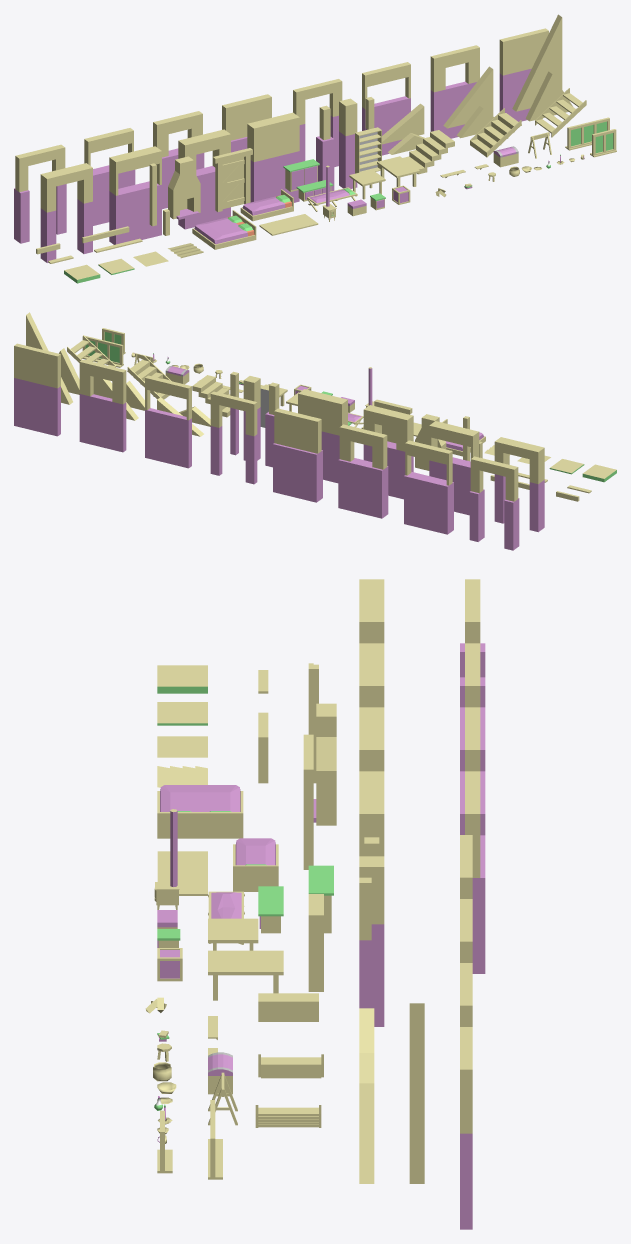
The model's file is fantasy_decorations.obj.
The picture shows the model from 3 angles, top to bottom: view 1: azimuth 30°, elevation 25°; view 2: azimuth 150°, elevation 25°; view 3: azimuth 270°, elevation 25°; orthographic projection. The views are drawn at different scales.
Visible parts, largest first — view 1: Wall_A_Window_Large, Wall_A_Plain, Wall_A_Door, Wall_C_Window_Small, Wall_C, Wall_B_Door, Wall_A_Window_Small, Wall_B_Window_Large, Wall_C_Window_Large, Wall_Roof_60, Wall_B_Window_Small, Wall_C_Door (+28 smaller); view 2: Wall_B, Wall_B_Window_Small, Wall_C, Wall_C_Window_Small, Wall_B_Window_Large, Wall_C_Window_Large, Wall_B_Door, Wall_A_Door, Wall_C_Door, Wall_A_Window_Small, Wall_A_Plain, Wall_A_Window_Large (+14 smaller); view 3: Bed_Double, Wall_B, Fireplace, Wall_C, Wall_Pillar_A, Wall_Roof_60, Bed_Single, Table_Large, Wall_A_Plain, Board, Stairs_Block, Wall_B_Door (+23 smaller).
Boxes of the visible parts, bbox=[...] form: Wall_A_Window_Large: bbox=[109, 146, 161, 244]; Wall_A_Plain: bbox=[247, 112, 299, 202]; Wall_A_Door: bbox=[40, 163, 92, 262]; Wall_C_Window_Small: bbox=[430, 45, 479, 138]; Wall_C: bbox=[499, 28, 548, 121]; Wall_B_Door: bbox=[14, 144, 66, 243]; Wall_A_Window_Small: bbox=[178, 129, 230, 229]; Wall_B_Window_Large: bbox=[84, 128, 135, 225]; Wall_C_Window_Large: bbox=[362, 62, 410, 155]; Wall_Roof_60: bbox=[512, 14, 562, 111]; Wall_B_Window_Small: bbox=[153, 111, 204, 209]; Wall_C_Door: bbox=[293, 79, 342, 166]; Wall_B: bbox=[273, 408, 322, 502]; Wall_B_Window_Small: bbox=[338, 424, 388, 518]; Wall_C: bbox=[14, 343, 60, 436]; Wall_C_Window_Small: bbox=[79, 359, 126, 452]; Wall_B_Window_Large: bbox=[404, 440, 453, 534]; Wall_C_Window_Large: bbox=[145, 375, 191, 468]; Wall_B_Door: bbox=[469, 456, 519, 550]; Wall_A_Door: bbox=[494, 437, 544, 532]; Wall_C_Door: bbox=[210, 391, 257, 484]; Wall_A_Window_Small: bbox=[363, 405, 413, 499]; Wall_A_Plain: bbox=[298, 389, 347, 483]; Wall_A_Window_Large: bbox=[429, 421, 479, 515]; Bed_Double: bbox=[157, 785, 243, 838]; Wall_B: bbox=[465, 771, 485, 973]; Fireplace: bbox=[313, 703, 336, 825]; Wall_C: bbox=[460, 1027, 472, 1229]; Wall_Pillar_A: bbox=[359, 856, 384, 1026]; Wall_Roof_60: bbox=[409, 1025, 424, 1183]; Bed_Single: bbox=[233, 838, 278, 891]; Table_Large: bbox=[208, 950, 283, 1000]; Wall_A_Plain: bbox=[359, 771, 384, 856]; Board: bbox=[157, 851, 207, 895]; Stairs_Block: bbox=[258, 993, 318, 1021]; Wall_B_Door: bbox=[460, 579, 485, 707].
Size of the model in its own units: 24 by 4.46 by 6.73.
